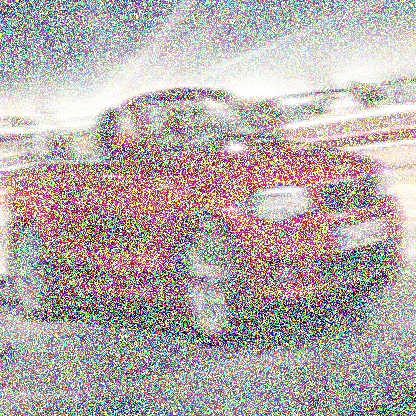Vehicle: (7, 81, 409, 344)
